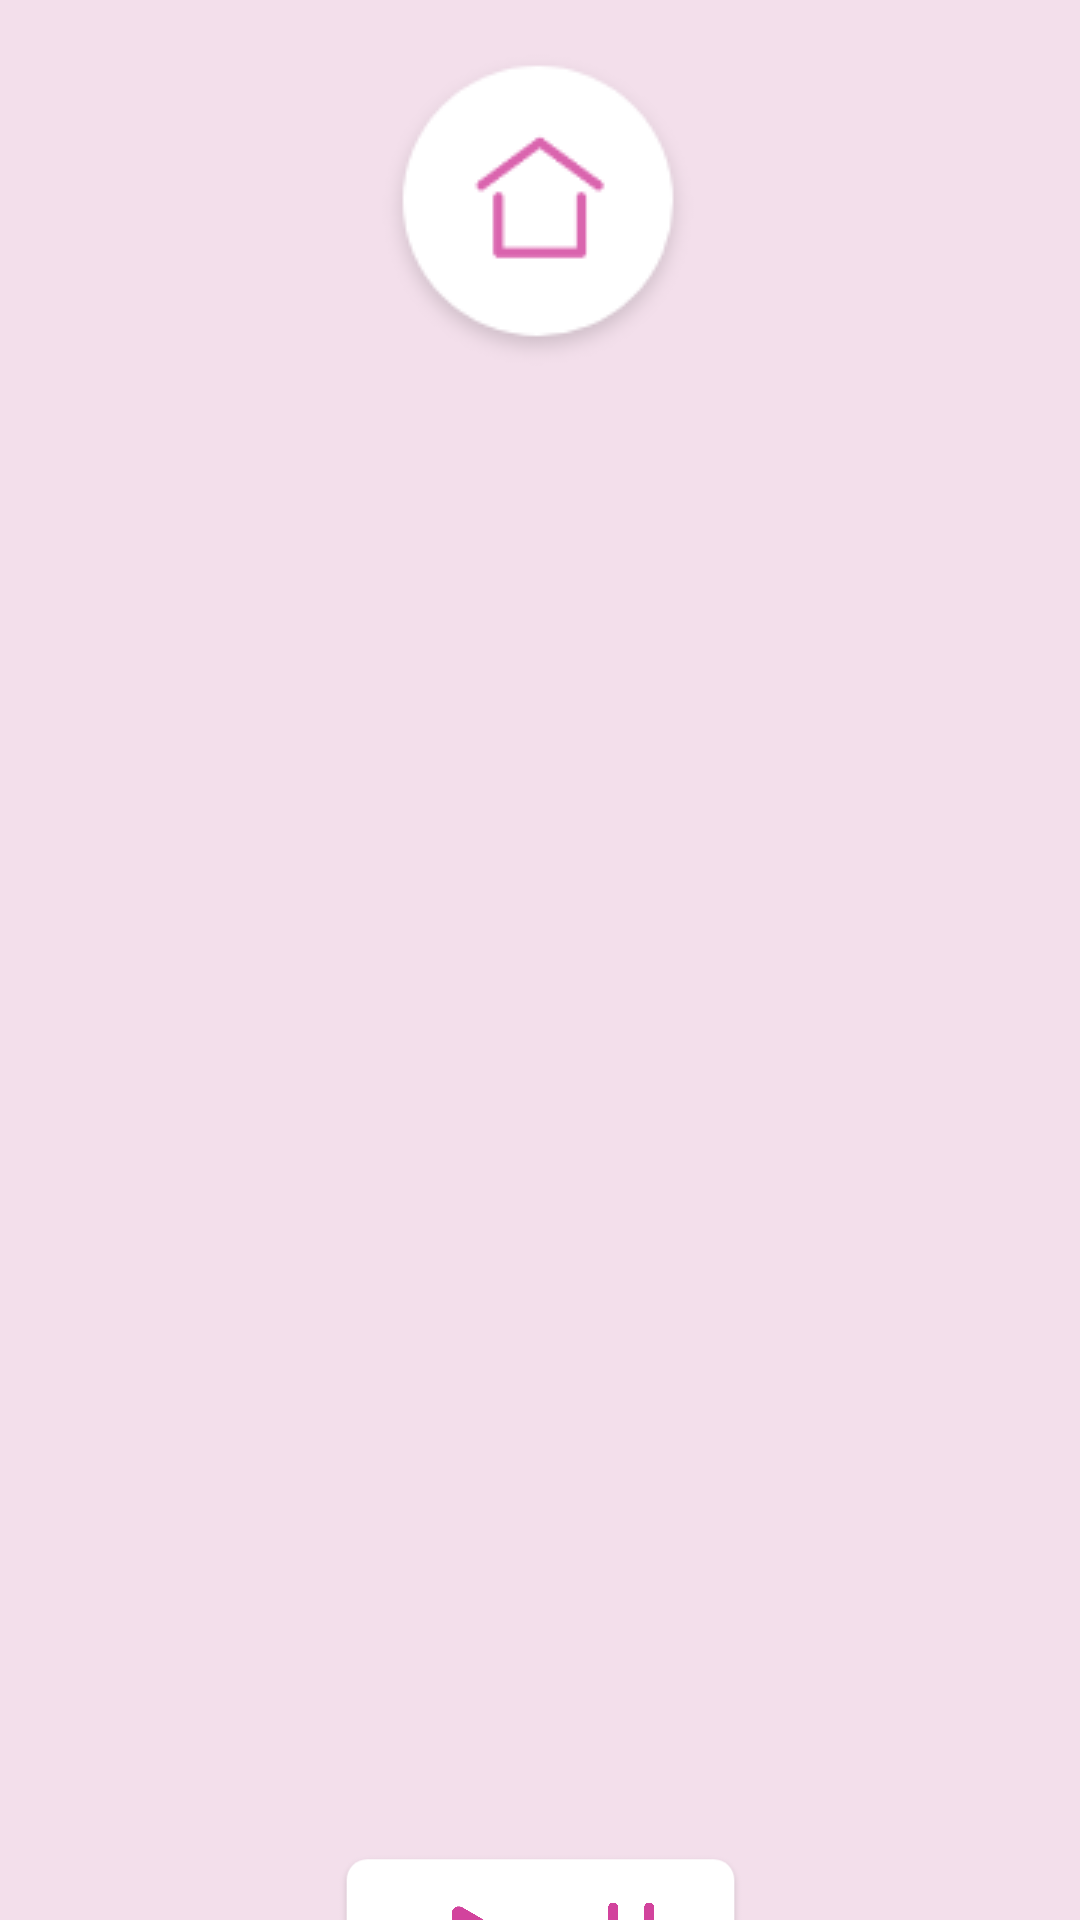

Where icons sit on this 1080x1920 app screen, as bbox=(x1, y1, x2, y2):
homeimage: bbox=(404, 67, 672, 341)
